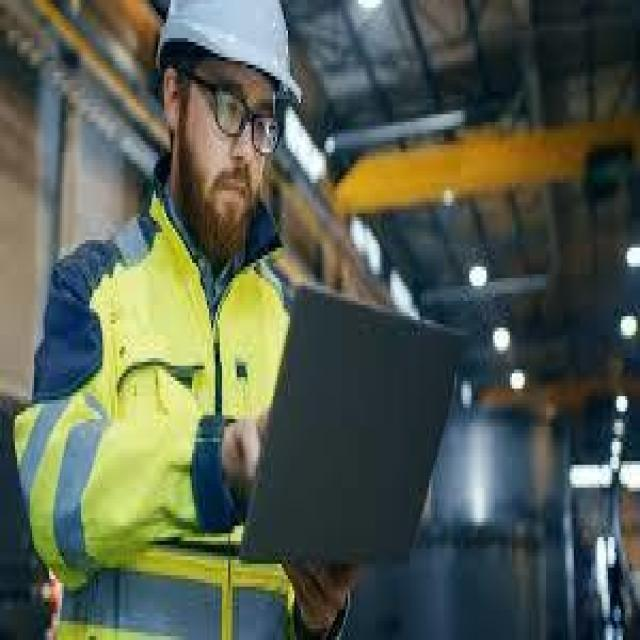safety_helmet: (12, 162, 358, 636)
